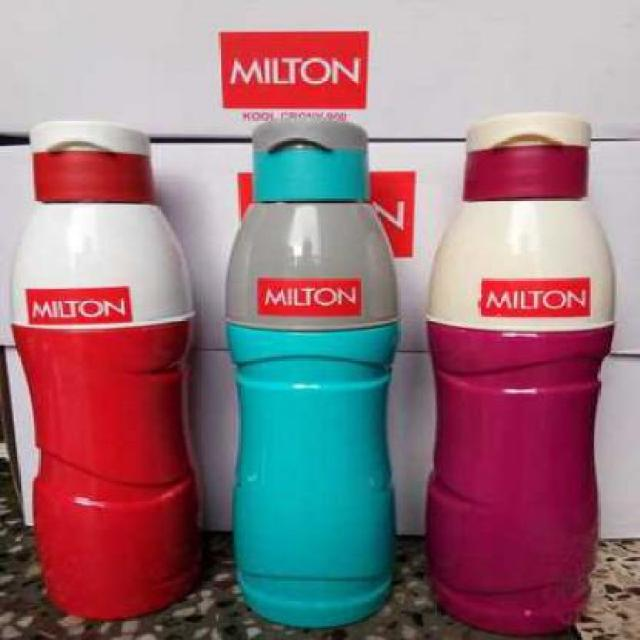Drinking: (216, 108, 413, 634), (16, 114, 212, 623), (434, 100, 606, 632)
